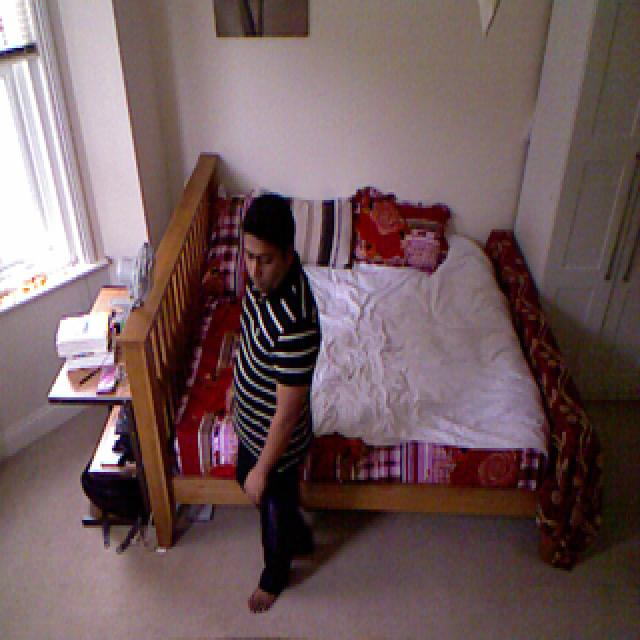standing: (229, 188, 326, 624)
